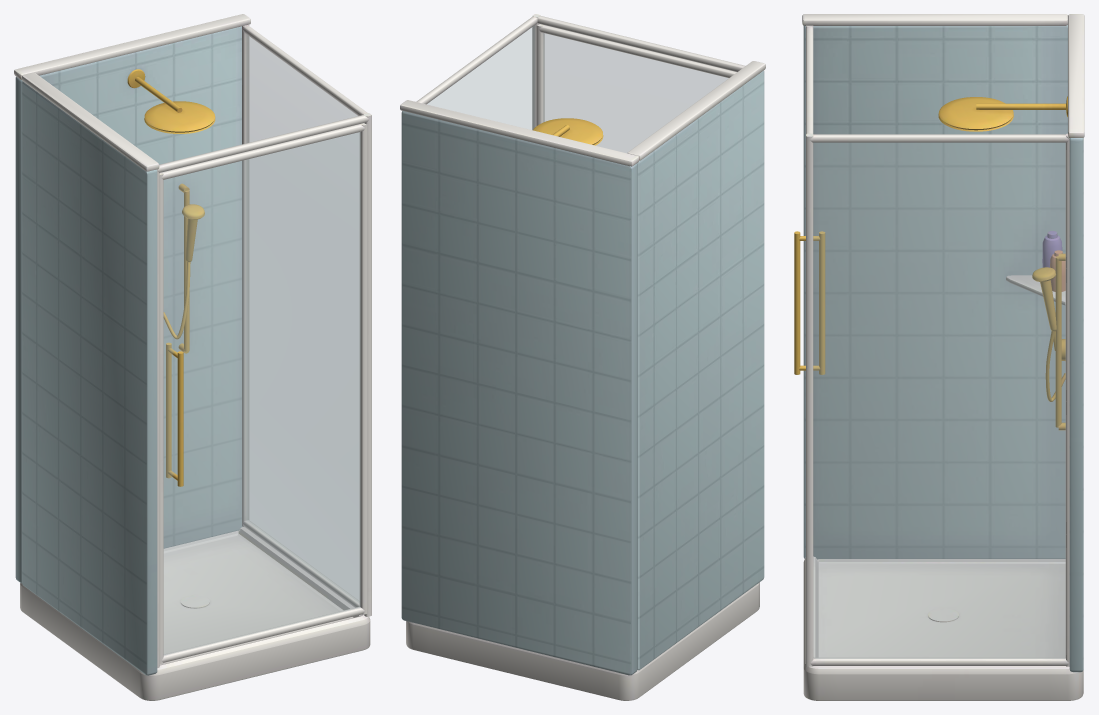
Rendered from g3-shower-cabin.glb.
3 views of the same model, side by side, from view 1: azimuth 30°, elevation 25°; view 2: azimuth 150°, elevation 25°; view 3: azimuth 270°, elevation 25° (orthographic). The views are drawn at different scales.
Visible parts, largest first — view 1: shower-cabin_body, shower-cabin_door_glass, shower-cabin_side_glass, shower-cabin_door; view 2: shower-cabin_body, shower-cabin_door_glass, shower-cabin_side_glass, shower-cabin_door; view 3: shower-cabin_body, shower-cabin_side_glass, shower-cabin_door.
Boxes of the visible parts, x1,y1,x2,y2 form: shower-cabin_body: (14,14,371,700); shower-cabin_door_glass: (164,132,360,655); shower-cabin_side_glass: (246,34,359,602); shower-cabin_door: (159,123,367,664); shower-cabin_body: (400,14,765,700); shower-cabin_door_glass: (543,33,728,152); shower-cabin_side_glass: (427,25,534,129); shower-cabin_door: (536,24,736,125); shower-cabin_body: (802,14,1084,700); shower-cabin_side_glass: (813,143,1065,658); shower-cabin_door: (794,231,825,374).
Bounding box in the file's own units: 0.908 × 2.02 × 0.934.
3 materials, 2 textured.
